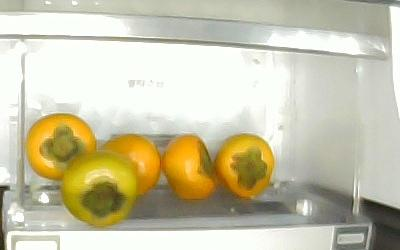persimmon: (59, 149, 137, 227), (24, 111, 96, 180), (212, 131, 274, 197), (160, 132, 217, 201), (103, 133, 161, 197)
